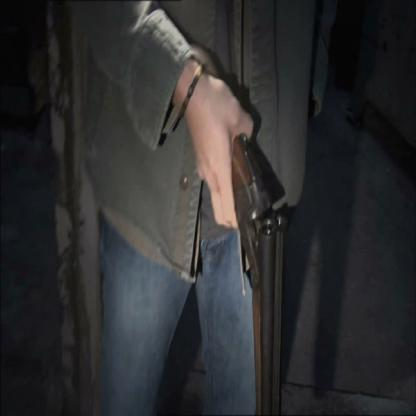Guns: (212, 103, 288, 415)
